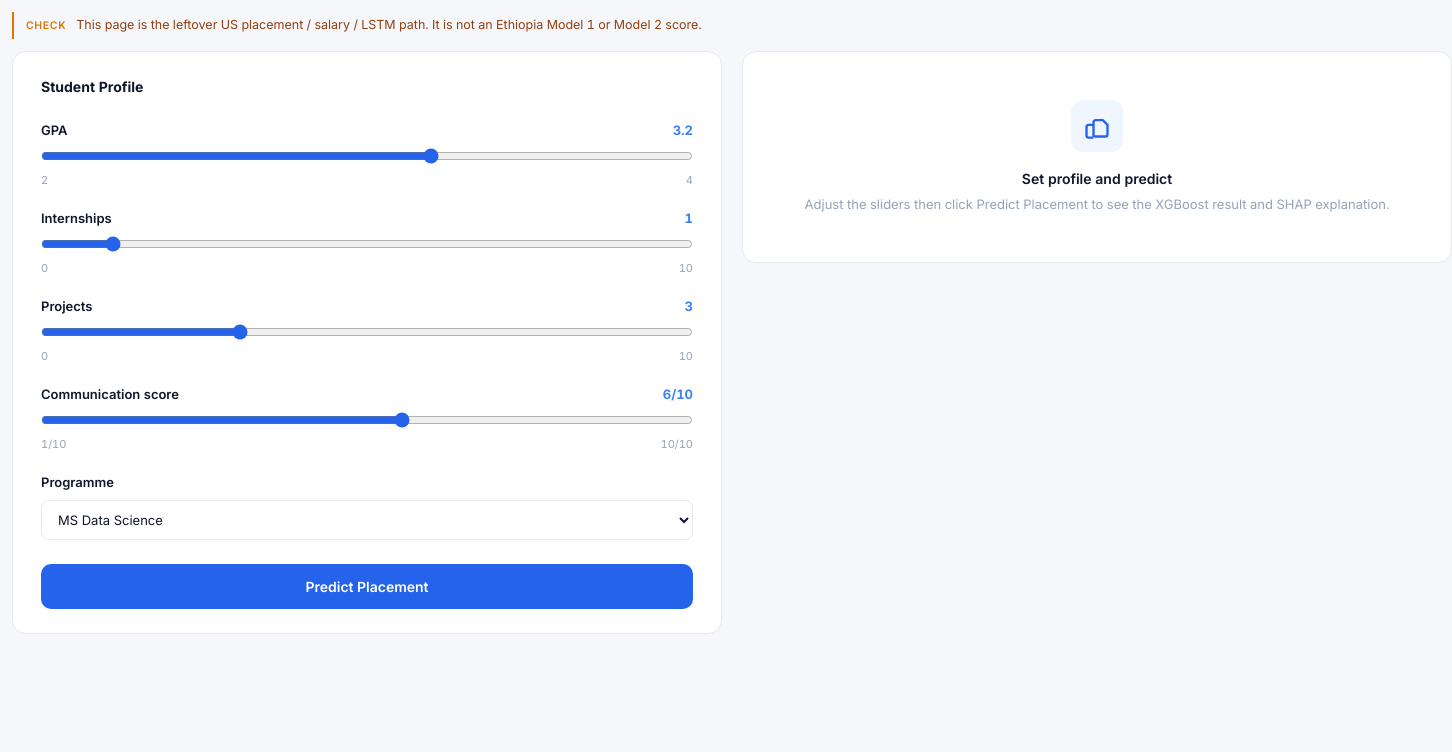
Test: StudentEvaluatorPage — reset › Reset button clears results and shows placeholder again
Click the button "Predict Placement" at (367, 586), box [41,564,693,609]
(page scrolled)
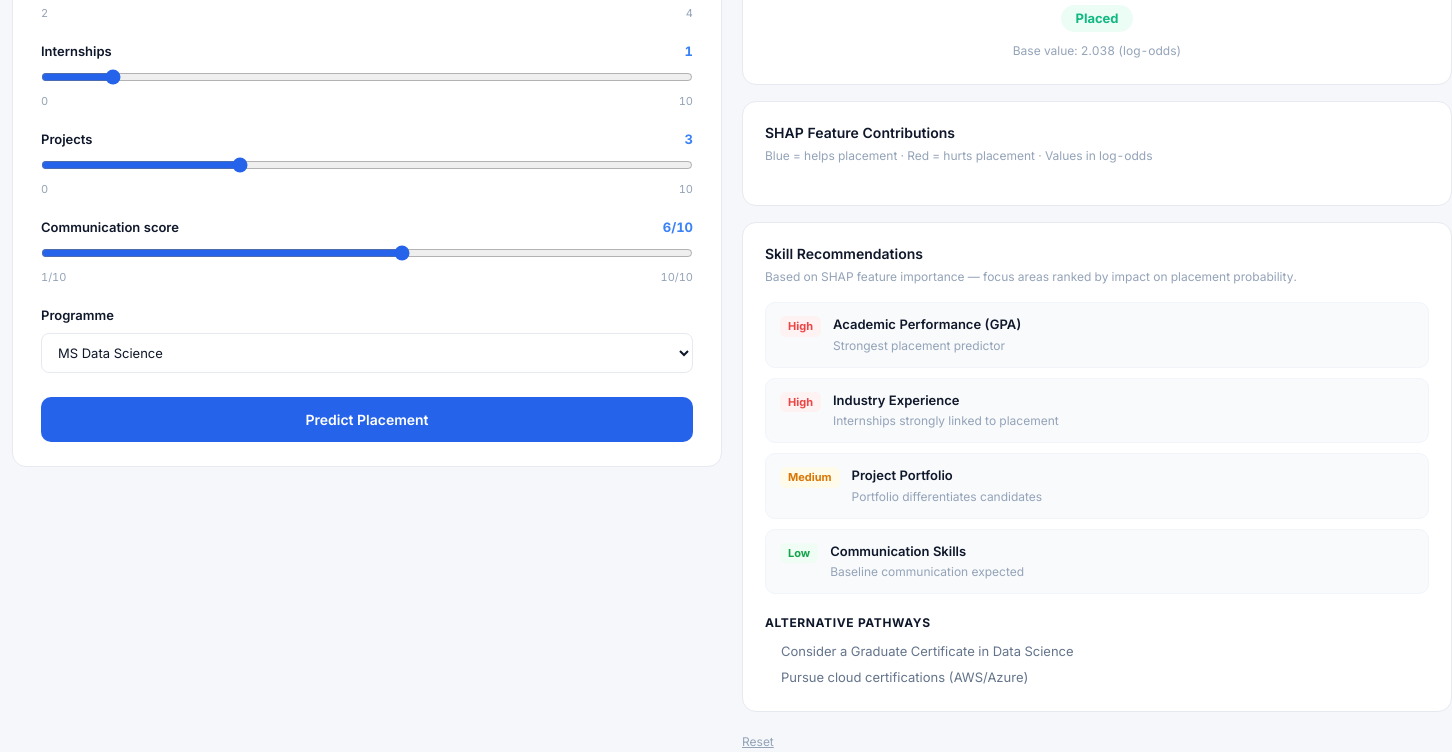
Click the button "Reset" at (758, 742), box [742,733,774,751]
(page scrolled)
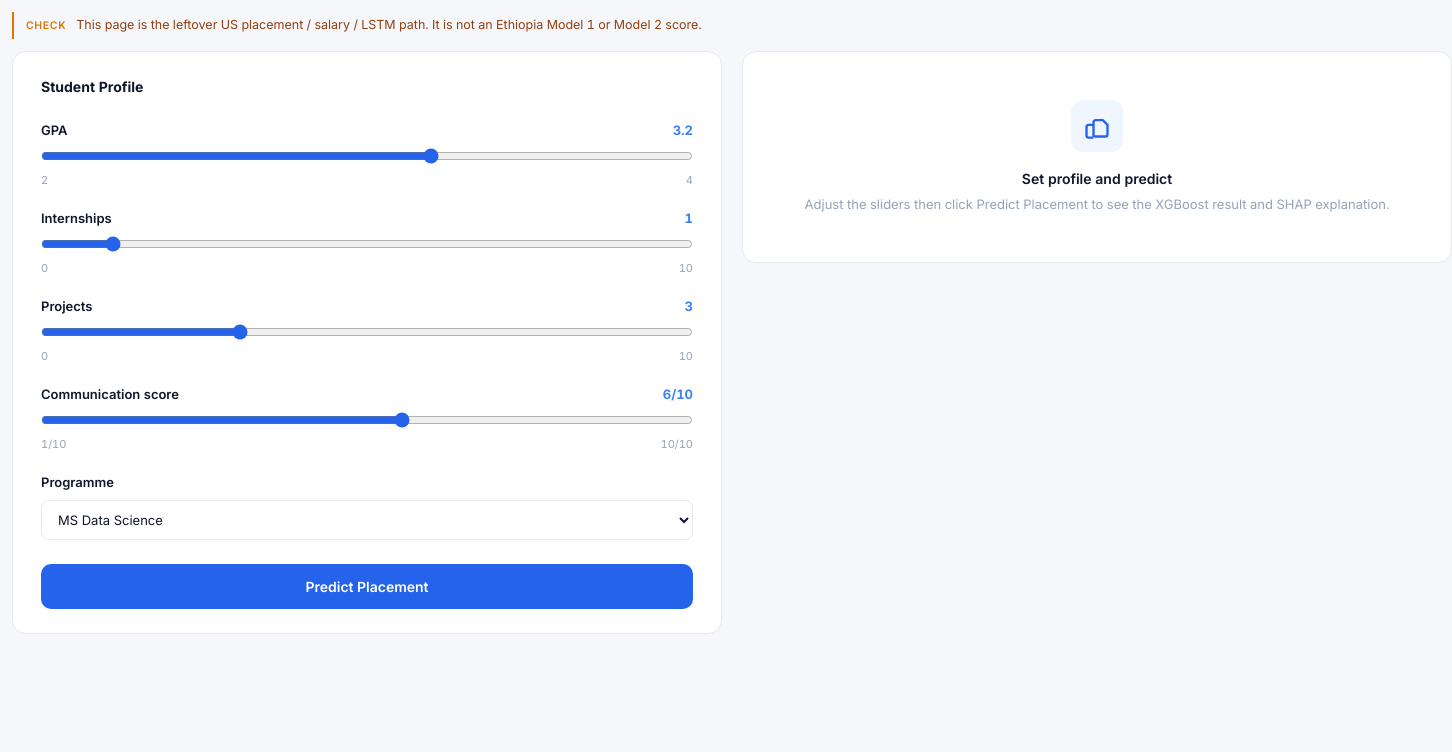
Check: the text "Set profile and predict" is shown, box [1022,170,1172,186]
Check: the text "Skill Recommendations" is gone
